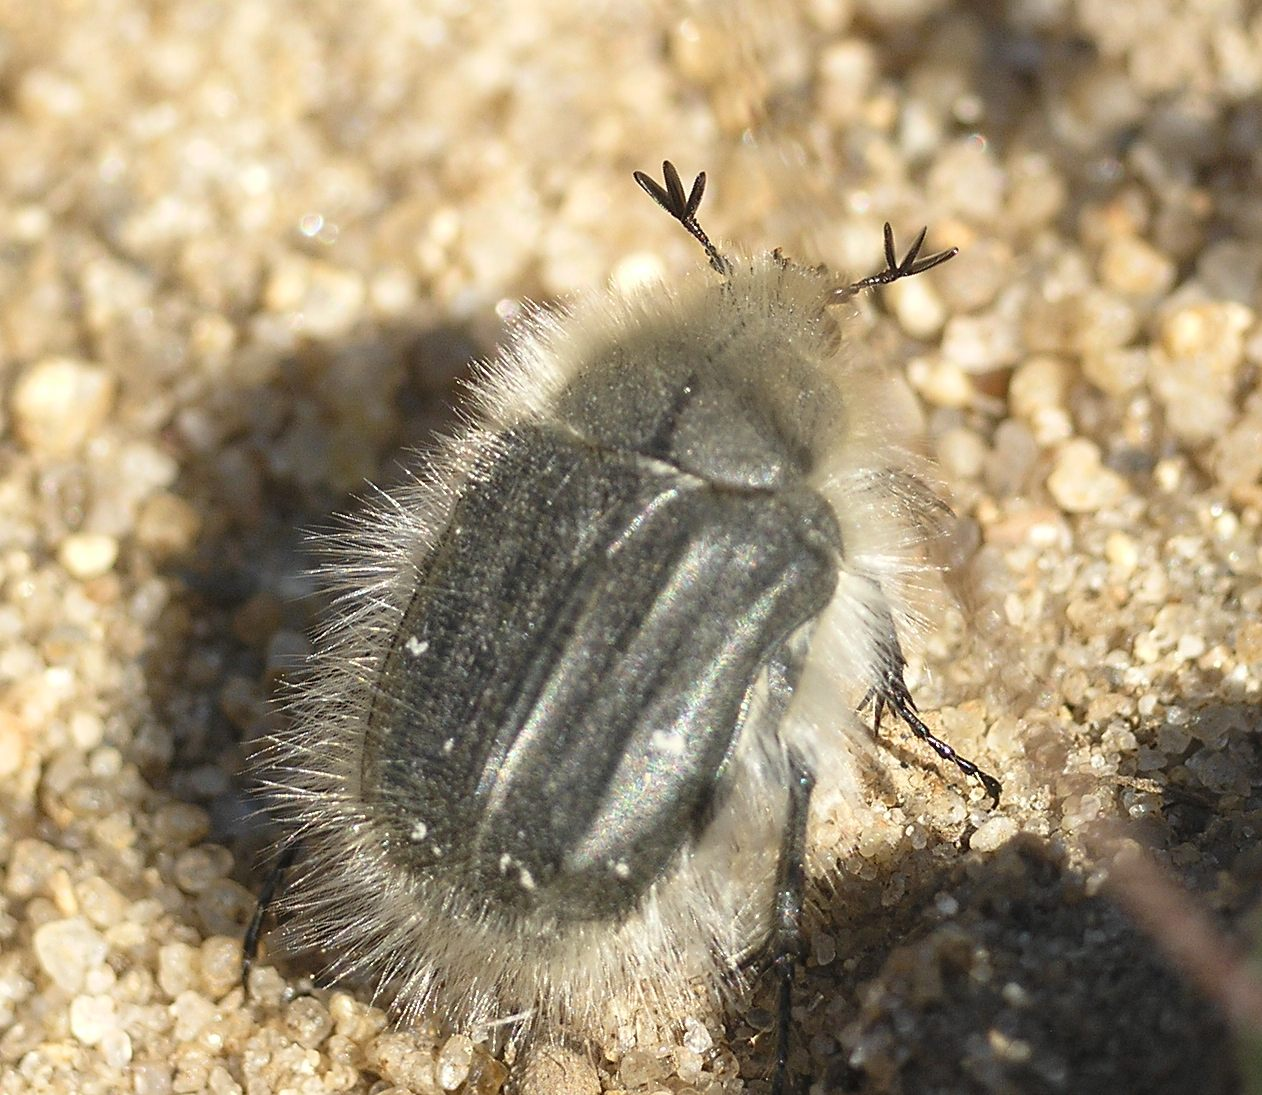Tropinota_hirta: (182, 137, 1051, 1091)
